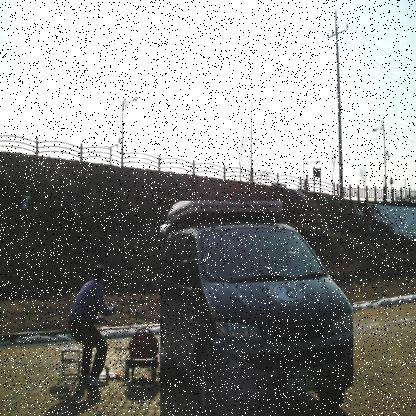Car: (160, 201, 354, 415)
